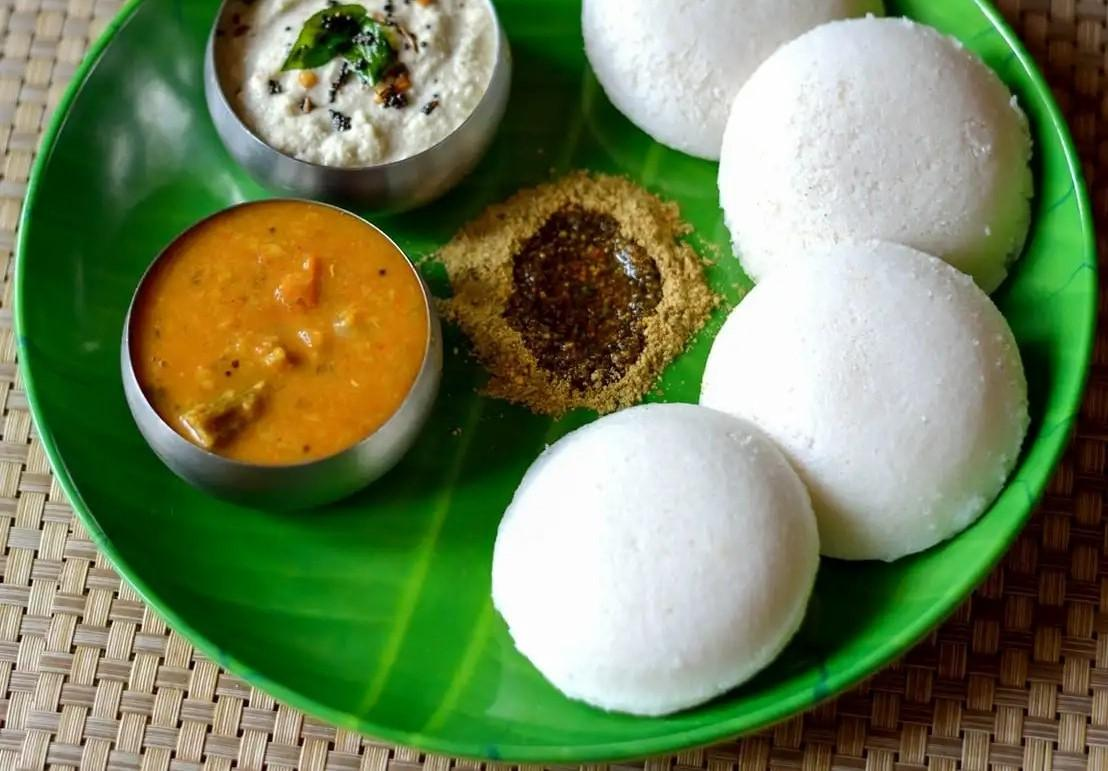CoconutChutney: (216, 0, 493, 165)
Idli: (698, 246, 1029, 562), (491, 404, 806, 712), (716, 21, 1033, 299), (576, 0, 877, 162)
